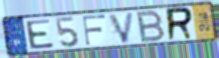5: (54, 15, 80, 49)
B: (136, 9, 167, 44)
E: (24, 18, 56, 50)
F: (82, 13, 108, 47)
R: (165, 6, 195, 43)
V: (107, 11, 136, 45)
